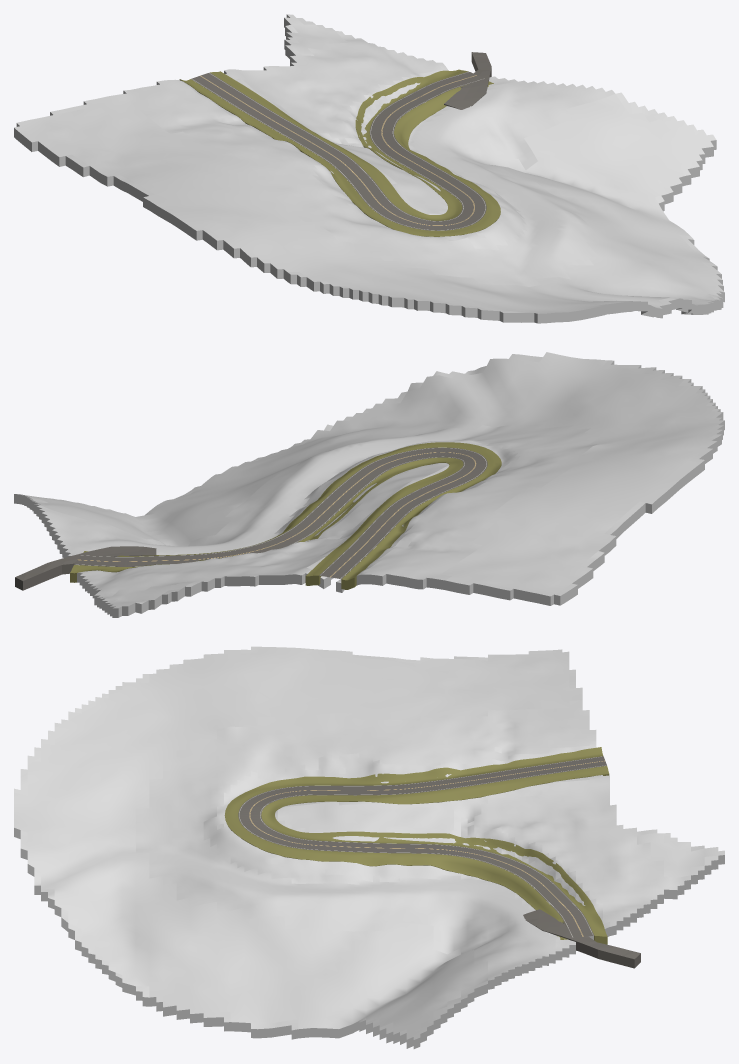
The model's file is conz_149.glb.
The picture shows the model from 3 angles, top to bottom: view 1: azimuth 30°, elevation 25°; view 2: azimuth 150°, elevation 25°; view 3: azimuth 270°, elevation 25°; orthographic projection. The views are drawn at different scales.
Parts seen in each view (by area): view 1: terrain149, road149, verge149L, verge149R, lot149_11, paint_white149, paint_yellow149; view 2: terrain149, road149, verge149L, verge149R, lot149_11, paint_white149, paint_yellow149; view 3: terrain149, road149, verge149L, verge149R, lot149_11, paint_white149, paint_yellow149.
Boxes of the visible parts, x1=… form: terrain149: x1=14, y1=14, x2=724, y2=323; road149: x1=191, y1=71, x2=486, y2=230; verge149L: x1=179, y1=79, x2=500, y2=236; verge149R: x1=210, y1=69, x2=468, y2=220; lot149_11: x1=436, y1=52, x2=491, y2=109; paint_white149: x1=192, y1=71, x2=485, y2=230; paint_yellow149: x1=200, y1=75, x2=476, y2=225; terrain149: x1=14, y1=352, x2=724, y2=617; road149: x1=74, y1=447, x2=487, y2=579; verge149L: x1=83, y1=442, x2=501, y2=589; verge149R: x1=70, y1=457, x2=463, y2=585; lot149_11: x1=15, y1=546, x2=156, y2=590; paint_white149: x1=76, y1=447, x2=486, y2=578; paint_yellow149: x1=78, y1=452, x2=476, y2=577; terrain149: x1=14, y1=646, x2=724, y2=1048; road149: x1=238, y1=756, x2=606, y2=937; verge149L: x1=224, y1=747, x2=603, y2=939; verge149R: x1=261, y1=766, x2=609, y2=944; lot149_11: x1=523, y1=909, x2=640, y2=968; paint_white149: x1=239, y1=756, x2=605, y2=937; paint_yellow149: x1=249, y1=760, x2=604, y2=936.
Bounding box in the file's own units: 202 × 50.32 × 210.
